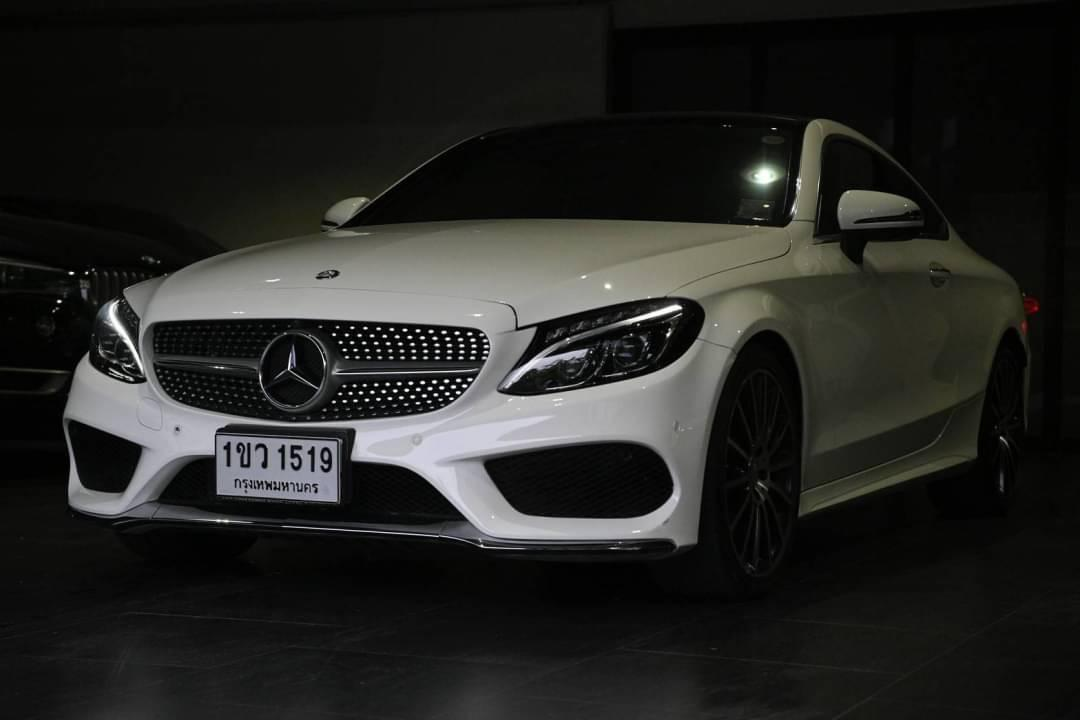license-plate: (212, 424, 342, 508)
